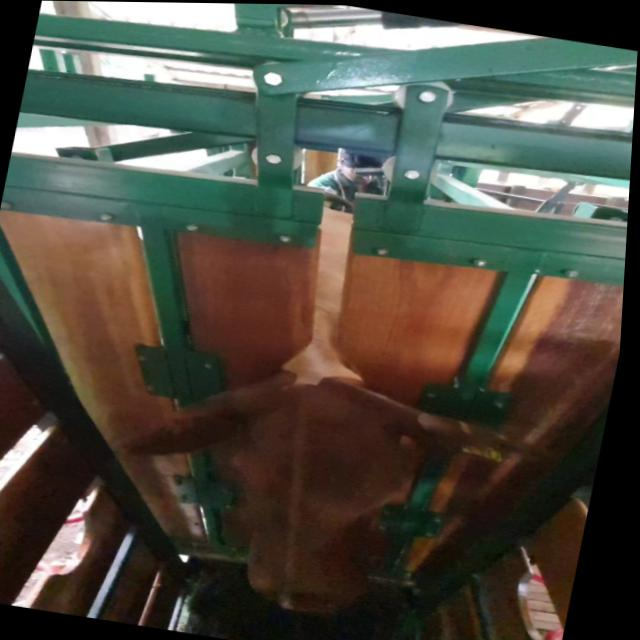cowFace: (211, 375, 430, 623)
